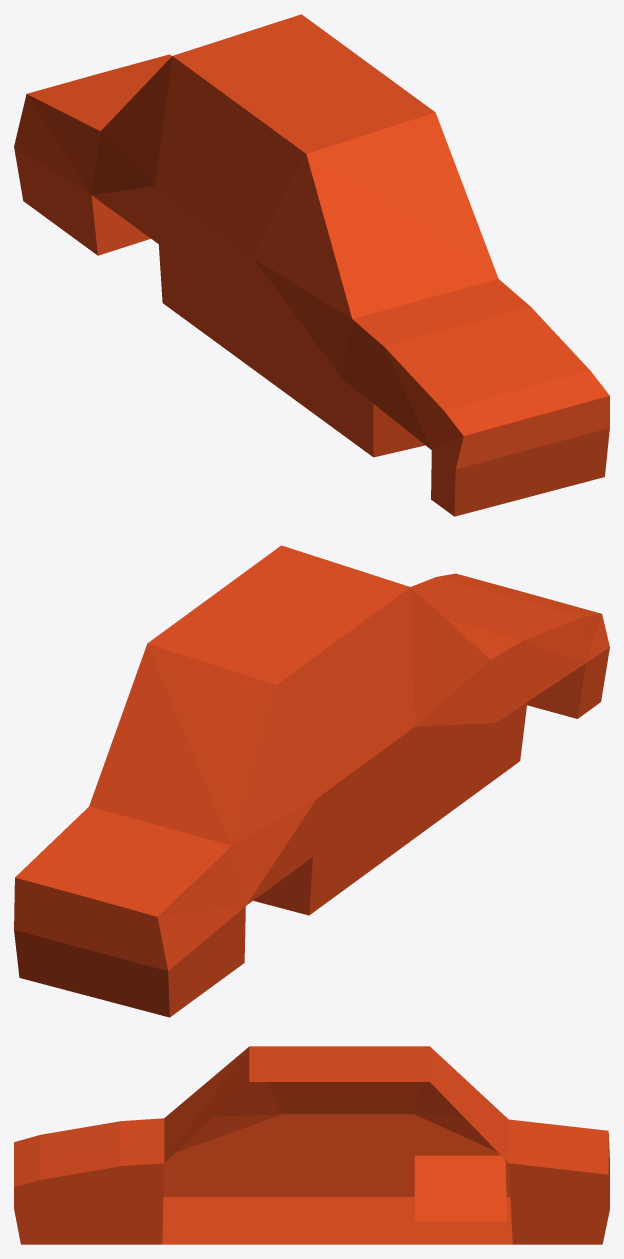
Rendered from Standard.dae.
3 views of the same model, one above another, from view 1: azimuth 30°, elevation 25°; view 2: azimuth 150°, elevation 25°; view 3: azimuth 270°, elevation 25° (orthographic). The views are drawn at different scales.
Parts seen in each view (by area): view 1: Cube; view 2: Cube; view 3: Cube.
Part boxes in pixels (bbox=[...]): Cube: bbox=[14, 14, 609, 516]; Cube: bbox=[14, 545, 609, 1017]; Cube: bbox=[14, 1046, 609, 1244].
Size of the model in its own units: 1.37 by 6.65 by 2.02.
